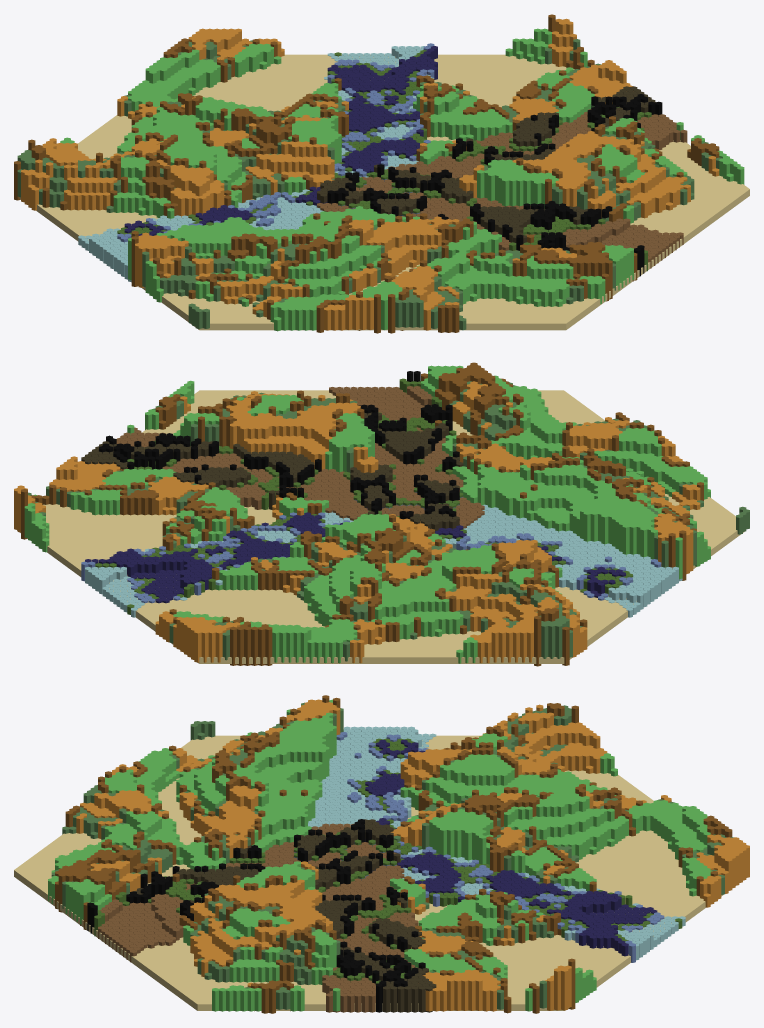
Rendered from 0015_tile_1202011.fbx.
3 renders of one model, top to bottom at view 1: azimuth 30°, elevation 25°; view 2: azimuth 150°, elevation 25°; view 3: azimuth 270°, elevation 25°, orthographic.
Parts seen in each view (by area): view 1: Plane; view 2: Plane; view 3: Plane.
Boxes of the visible parts, x1,y1,x2,y2 form: Plane: [14, 14, 749, 333]; Plane: [14, 362, 749, 666]; Plane: [14, 695, 749, 1013].
Bounding box in the file's own units: 1008 × 82.17 × 1152.
